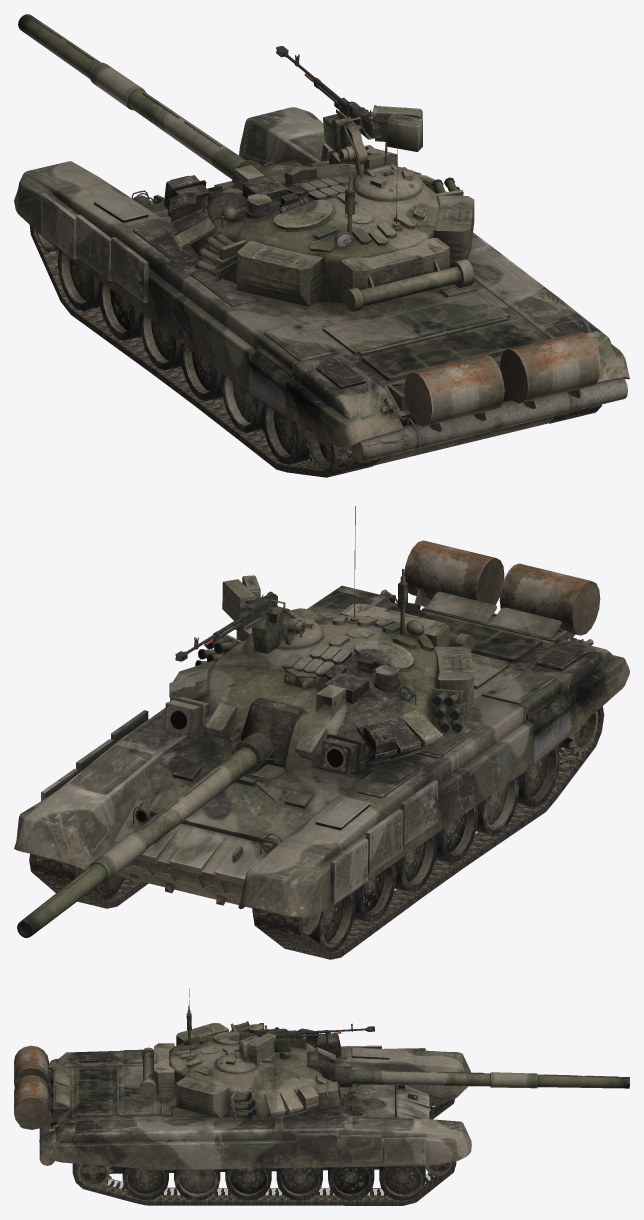
3 views of the same model, one above another, from view 1: azimuth 30°, elevation 25°; view 2: azimuth 150°, elevation 25°; view 3: azimuth 270°, elevation 25° (orthographic). The views are drawn at different scales.
Parts seen in each view (by area): view 1: Main_Body_2, Turret, Main_Body, gun; view 2: Main_Body_2, Turret, Main_Body, gun; view 3: Main_Body_2, Turret, Main_Body, gun.
Part boxes in pixels (x1=…): Main_Body_2: x1=14, y1=107, x2=629, y2=477; Turret: x1=18, y1=14, x2=474, y2=311; Main_Body: x1=131, y1=162, x2=555, y2=465; gun: x1=276, y1=46, x2=381, y2=138; Main_Body_2: x1=14, y1=540, x2=629, y2=959; Turret: x1=17, y1=506, x2=473, y2=937; Main_Body: x1=109, y1=592, x2=567, y2=912; gun: x1=175, y1=591, x2=277, y2=661; Main_Body_2: x1=14, y1=1045, x2=471, y2=1205; Turret: x1=140, y1=988, x2=629, y2=1120; Main_Body: x1=51, y1=1062, x2=429, y2=1173; gun: x1=252, y1=1023, x2=374, y2=1043.
Bounding box in the file's own units: 348 × 331 × 1006.
4 materials, 4 textured.
